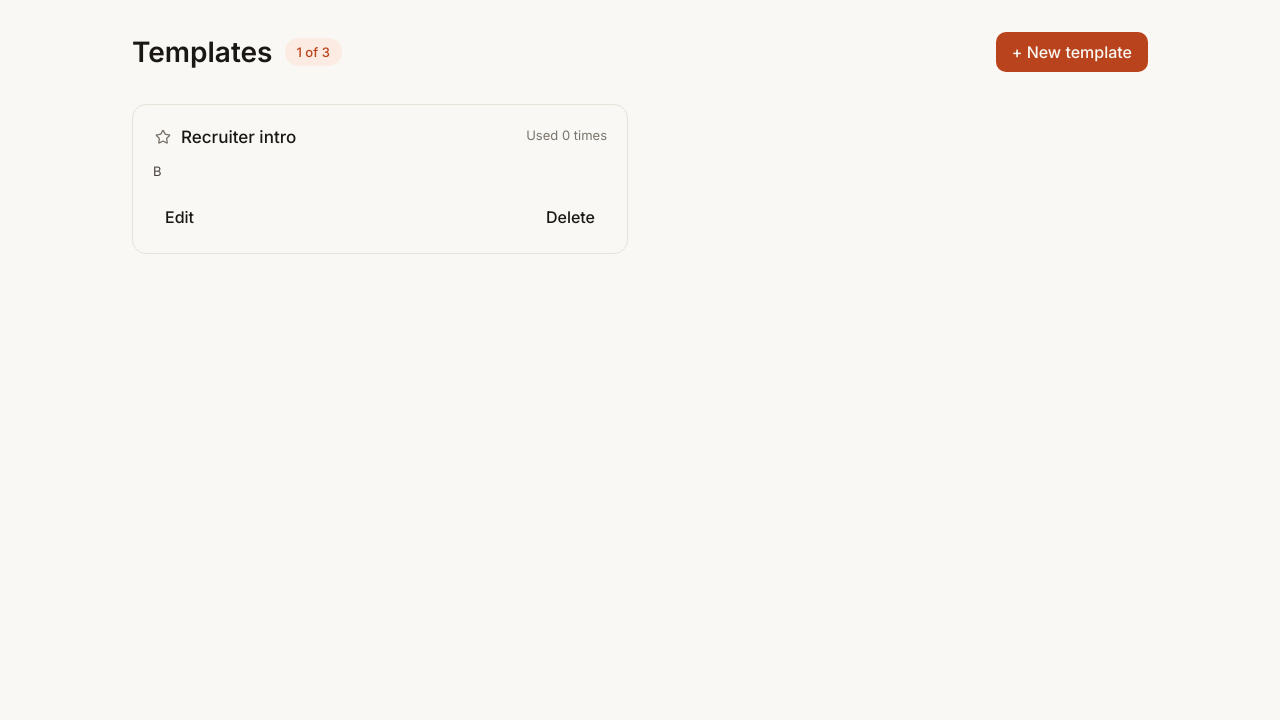
Test: TemplatesView › delete confirm uses locked microcopy with current count
Expected: the heading "Recruiter intro" is shown, [181,125,296,149]
What coordinates should you click on to do the following:
click the button "Delete"
I would click on:
 (570, 217)
Its box is [534,201,607,233].
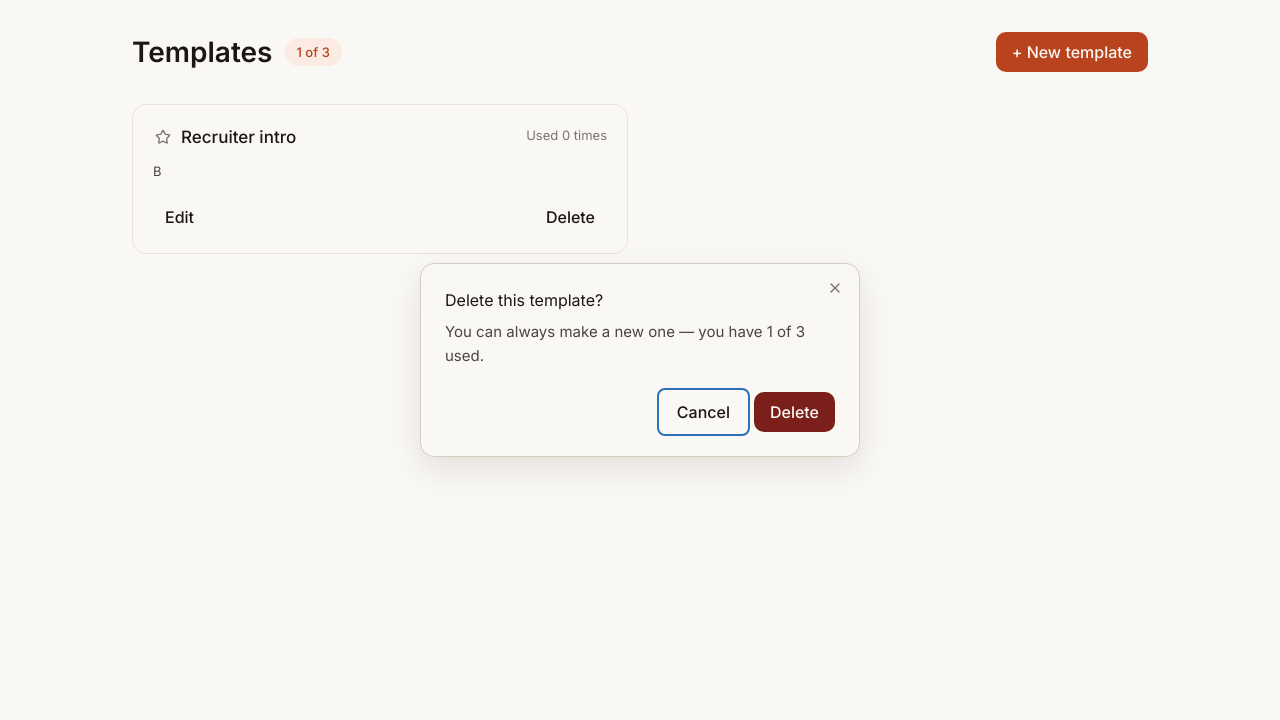
Now the heading "Delete this template?" is shown, box [445,290,603,310]
Now the text "You can always make a new one — you have 1 of 3 used." is shown, box [445,320,835,368]
